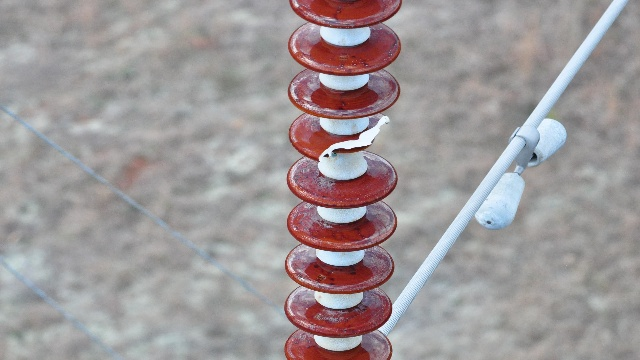broken_local: (318, 114, 392, 162)
insulator_unspecified: (284, 0, 404, 358)
